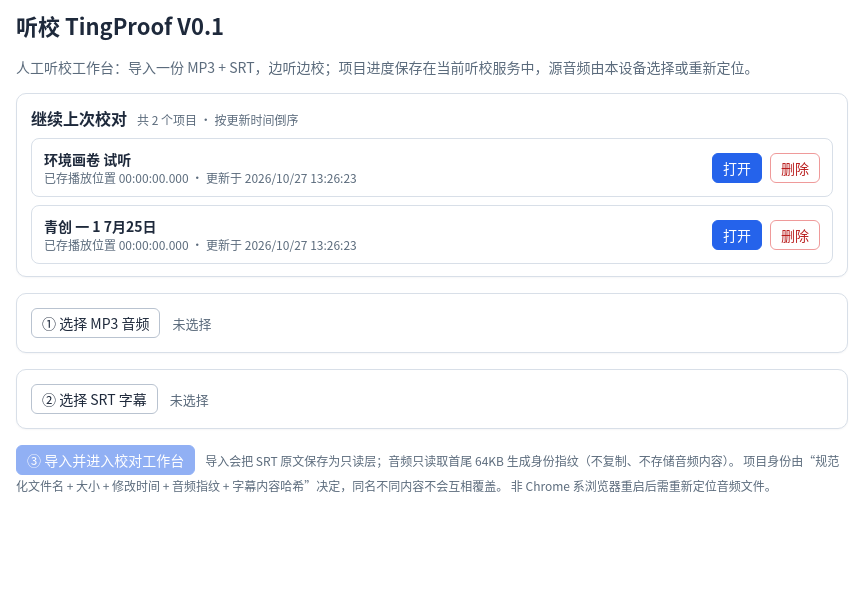
Scenario: ImportScreen 删除历史记录（AC-066） › 409 且安全刷新失败：列表不被清空、目标行保留、提示稍后重试
Click the button with aria-label "删除 环境画卷 试听" at (795, 168), box x1=770 y1=152 x2=820 y2=182
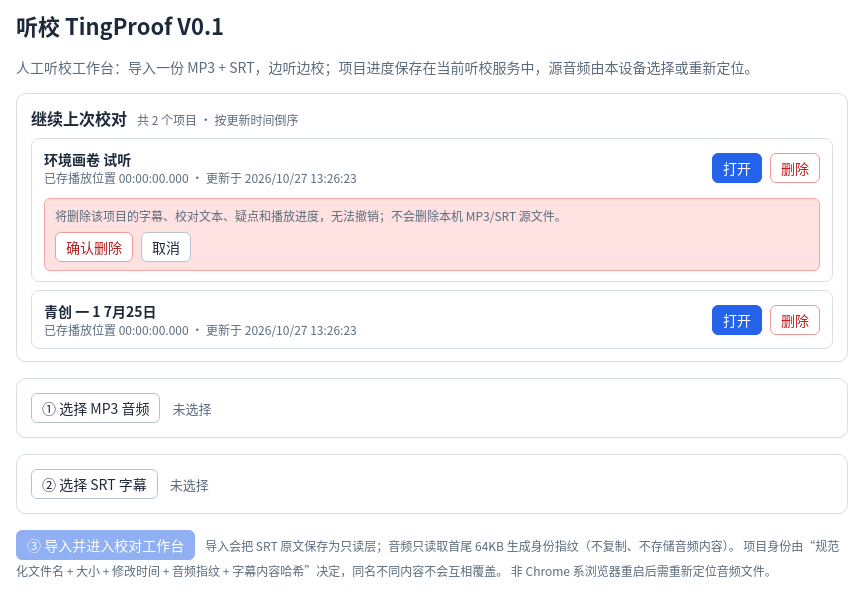
Click the button with aria-label "确认删除 环境画卷 试听" at (94, 247), box x1=55 y1=232 x2=133 y2=262
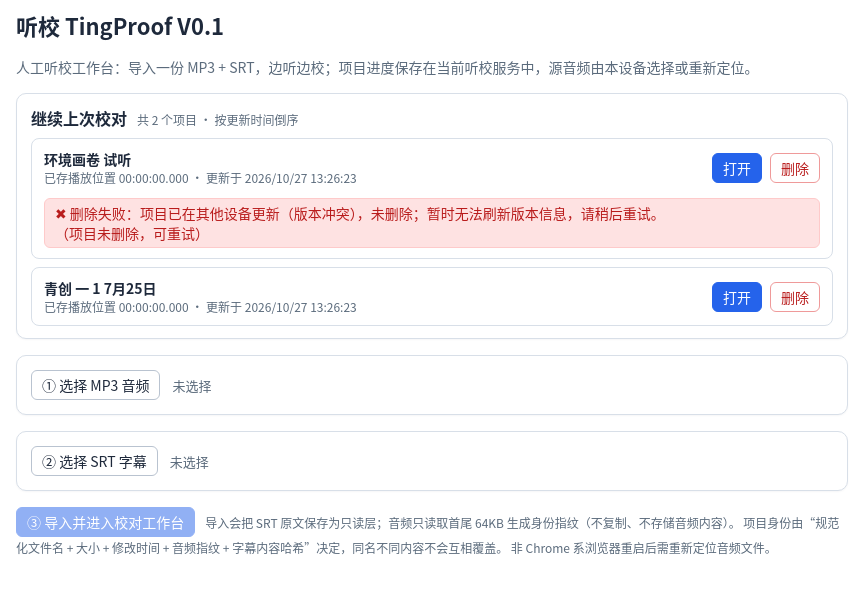
Expected: the message shows "版本冲突", x1=140 y1=203 x2=665 y2=223
Expected: the message shows "暂时无法刷新版本信息", x1=140 y1=203 x2=665 y2=223
Expected: the message shows "稍后重试", x1=140 y1=203 x2=665 y2=223
